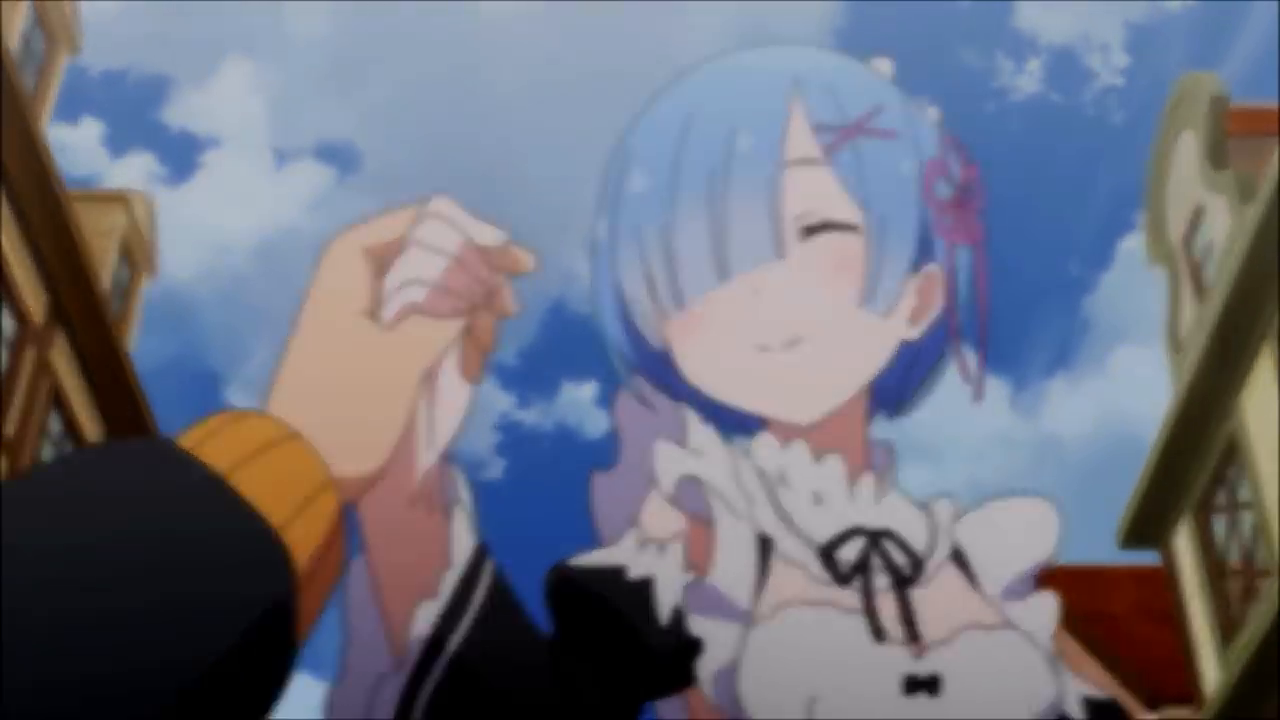REM: (581, 37, 981, 428)
